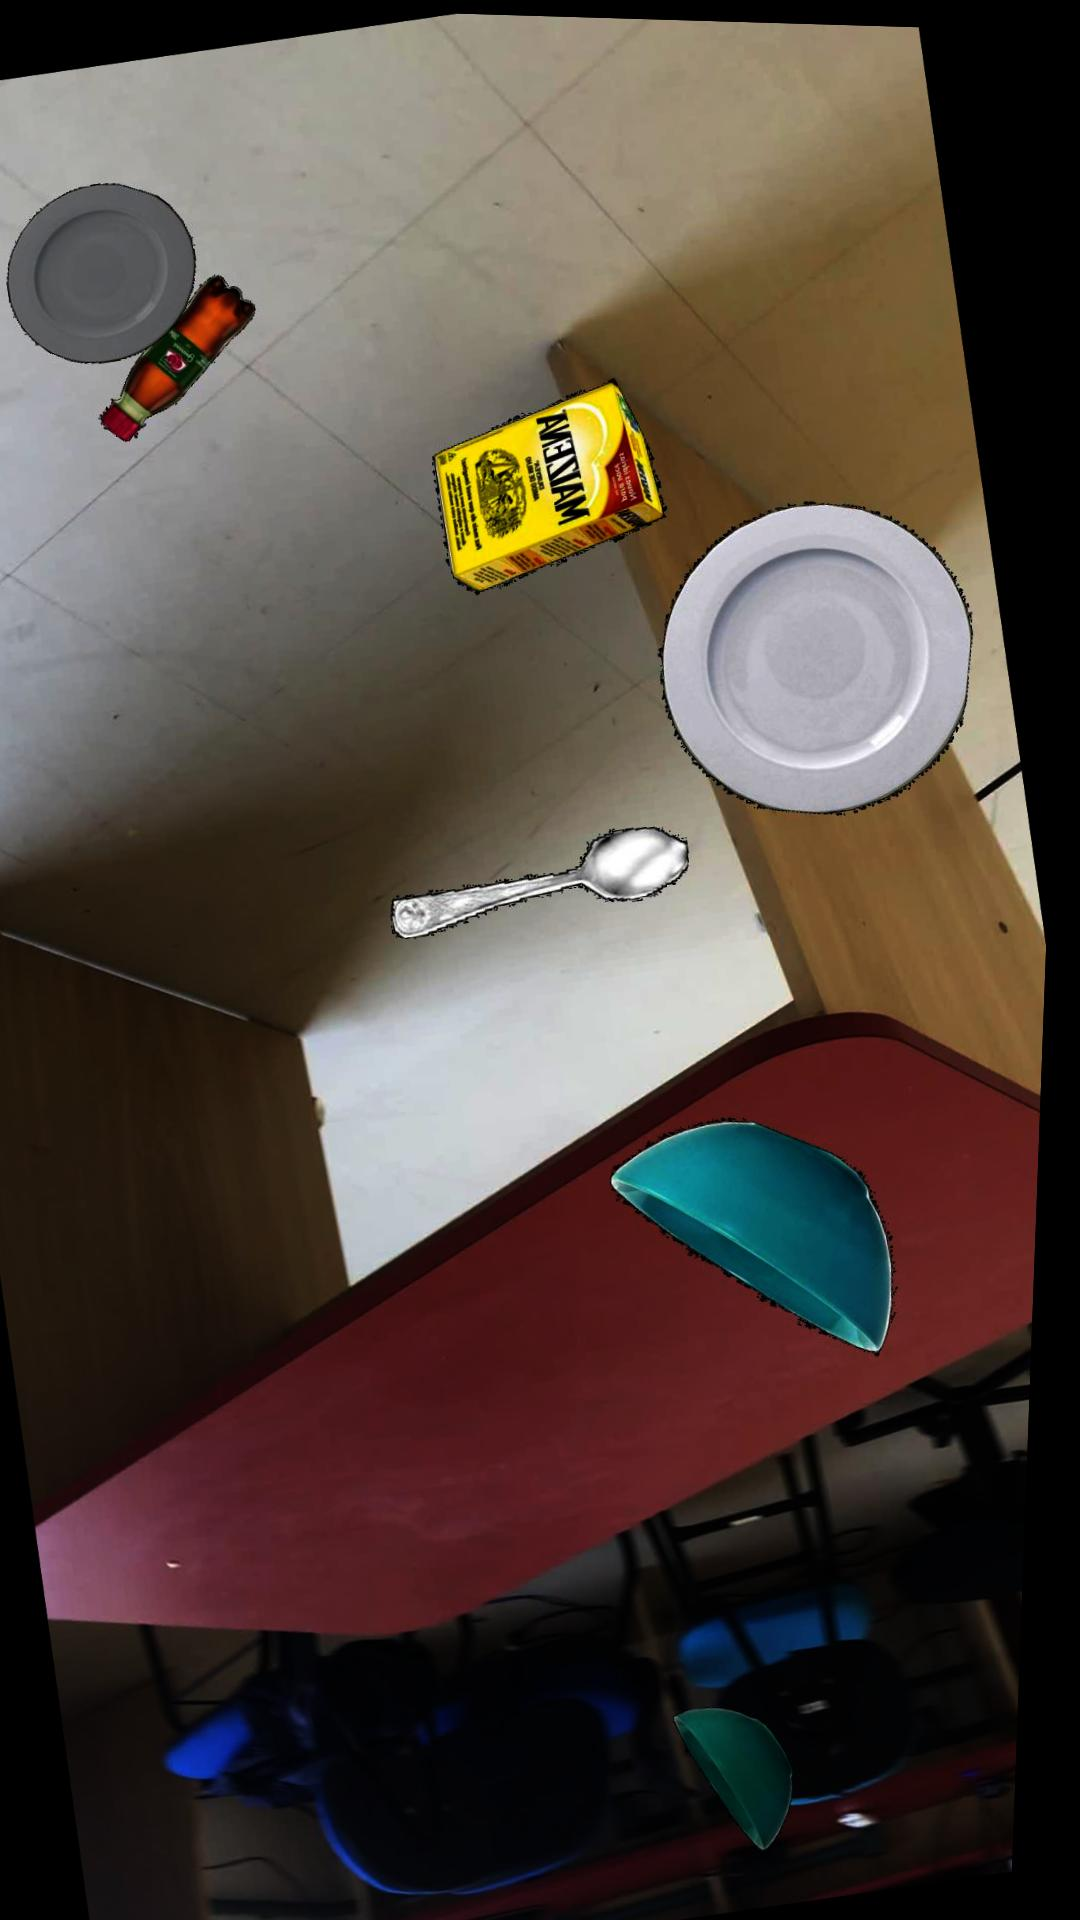bowl: (621, 1114, 905, 1348), (688, 1702, 810, 1847)
guarana: (105, 274, 260, 442)
plate: (665, 497, 980, 810), (11, 185, 199, 364)
spoon: (400, 824, 698, 938)
